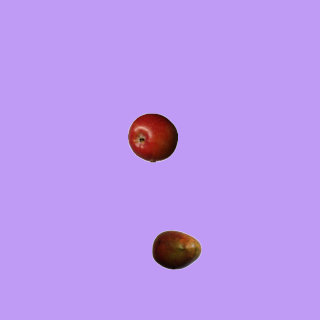Apple Braeburn: (127, 112, 177, 162)
Mango Red: (151, 224, 201, 274)
